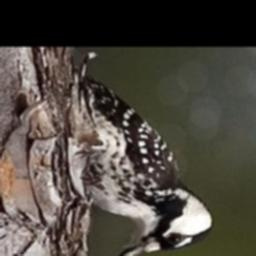Woodpecker: (66, 76, 219, 256)
